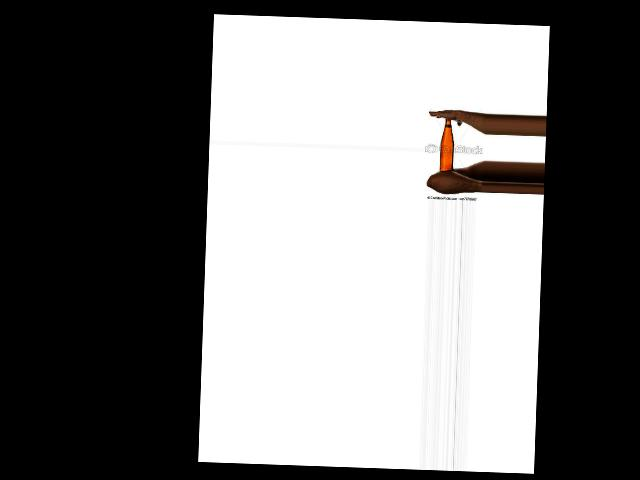beer: (439, 117, 455, 171)
